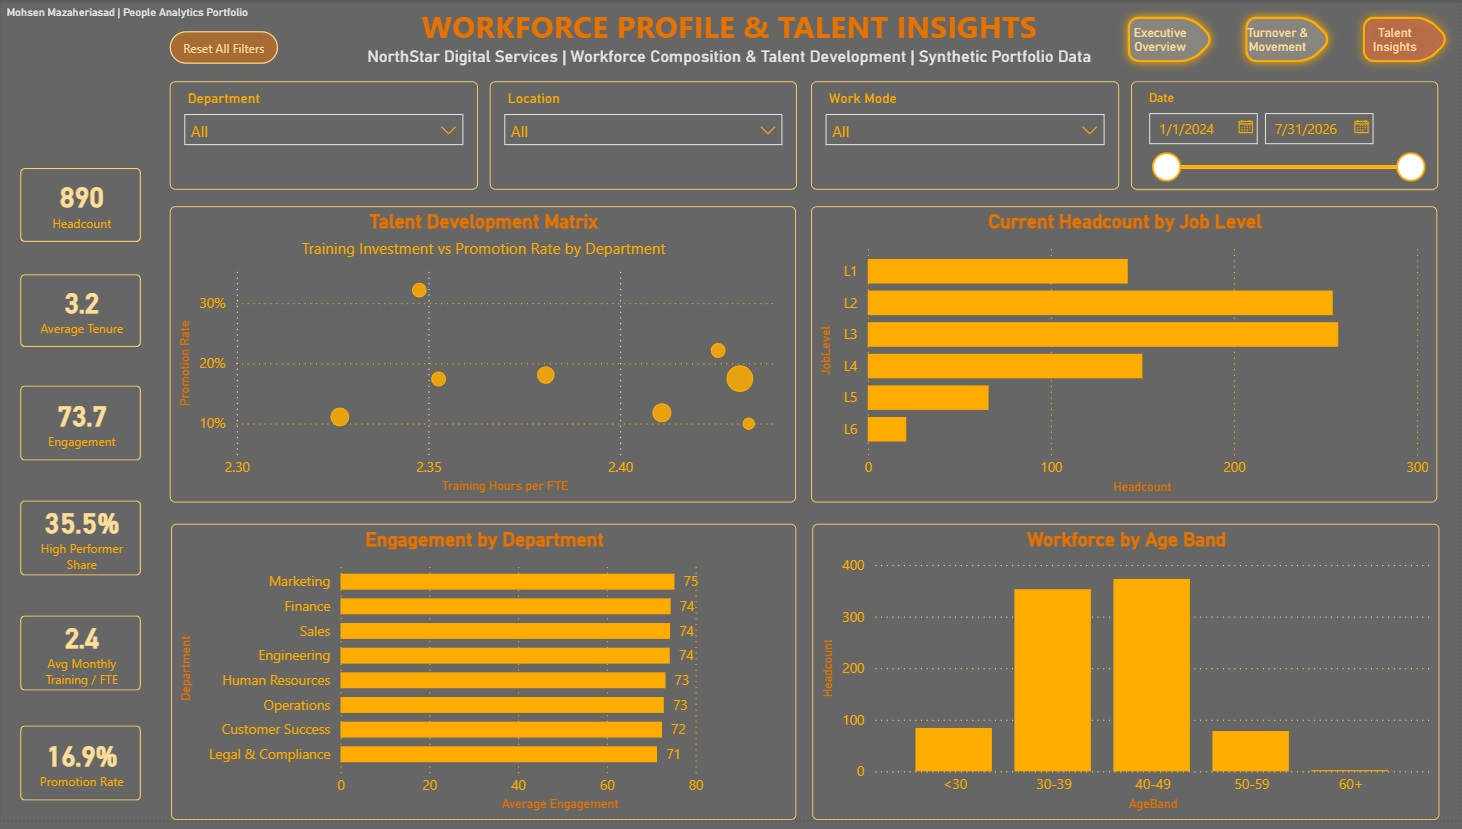

The page's visual inventory and layout, read from the dashboard file:
{"tool":"powerbi","page":{"name":"Talent Insights","canvas":[1280,720],"ordinal":2},"visuals":[{"type":"textbox","box":[306.3,0,666.1,71.2],"z":0},{"type":"slicer","fields":{"Values":["DimEmployee.Department"]},"box":[148.3,71.7,270,95],"z":1000},{"type":"cardVisual","fields":{"Data":["_Measures.Promotion Rate"]},"box":[0,619.9,140,100.4],"z":2000},{"type":"scatterChart","title":"Talent Development Matrix","fields":{"X":["_Measures.Training Hours per FTE"],"Y":["_Measures.Promotion Rate"],"Size":["_Measures.Headcount"],"Category":["DimEmployee.Department"]},"box":[148.3,180.9,549.7,260],"z":3000},{"type":"clusteredBarChart","title":"Current Headcount by Job Level","fields":{"Category":["DimEmployee.JobLevel"],"Y":["_Measures.Headcount"]},"box":[711.1,180.9,549.7,260],"z":4000},{"type":"clusteredBarChart","title":"Engagement by Department","fields":{"Category":["DimEmployee.Department"],"Y":["_Measures.Average Engagement"]},"box":[148.7,459.8,549,260.3],"z":5000},{"type":"clusteredColumnChart","title":"Workforce by Age Band","fields":{"Category":["DimEmployee.AgeBand"],"Y":["_Measures.Headcount"]},"box":[711.4,459.8,550.3,260],"z":6000},{"type":"slicer","fields":{"Values":["DimEmployee.Location"]},"box":[428.6,71.7,269.5,95],"z":7000},{"type":"slicer","fields":{"Values":["DimEmployee.WorkMode"]},"box":[711.1,71.7,270,95],"z":8000},{"type":"slicer","fields":{"Values":["DimDate.Date"]},"box":[991.4,71.7,269.5,95],"z":9000},{"type":"cardVisual","fields":{"Data":["_Measures.Average Tenure"]},"box":[0,223.2,140.1,98.6],"z":10000},{"type":"cardVisual","fields":{"Data":["_Measures.Average Engagement"]},"box":[0,321.8,140.1,100.9],"z":11000},{"type":"cardVisual","fields":{"Data":["_Measures.High Performer Share"]},"box":[0,422.7,140.1,100.9],"z":12000},{"type":"cardVisual","fields":{"Data":["_Measures.Training Hours per FTE"]},"box":[0,523.2,140,100.4],"z":13000},{"type":"cardVisual","fields":{"Data":["_Measures.Headcount"]},"box":[0,130.6,140.1,99.7],"z":14000},{"type":"pageNavigator","box":[980.8,7.1,299.2,57],"z":15000},{"type":"actionButton","box":[148.4,27.3,95,28.5],"z":16000},{"type":"textbox","box":[0,0,243.5,27.4],"z":16001}]}

Visuals, with their boxes in screenshot pixels (x1, y1, x2, y2), scaled from the page's 1280x720 canvas onto the 1462x829 screenshot:
textbox: 350, 0, 1111, 82
slicer - DimEmployee.Department: 169, 83, 478, 192
cardVisual - _Measures.Promotion Rate: 0, 714, 160, 828
"Talent Development Matrix" scatterChart: 169, 208, 797, 508
"Current Headcount by Job Level" clusteredBarChart: 812, 208, 1440, 508
"Engagement by Department" clusteredBarChart: 170, 529, 797, 828
"Workforce by Age Band" clusteredColumnChart: 813, 529, 1441, 828
slicer - DimEmployee.Location: 490, 83, 797, 192
slicer - DimEmployee.WorkMode: 812, 83, 1121, 192
slicer - DimDate.Date: 1132, 83, 1440, 192
cardVisual - _Measures.Average Tenure: 0, 257, 160, 371
cardVisual - _Measures.Average Engagement: 0, 371, 160, 487
cardVisual - _Measures.High Performer Share: 0, 487, 160, 603
cardVisual - _Measures.Training Hours per FTE: 0, 602, 160, 718
cardVisual - _Measures.Headcount: 0, 150, 160, 265
pageNavigator: 1120, 8, 1461, 74
actionButton: 170, 31, 278, 64
textbox: 0, 0, 278, 32
